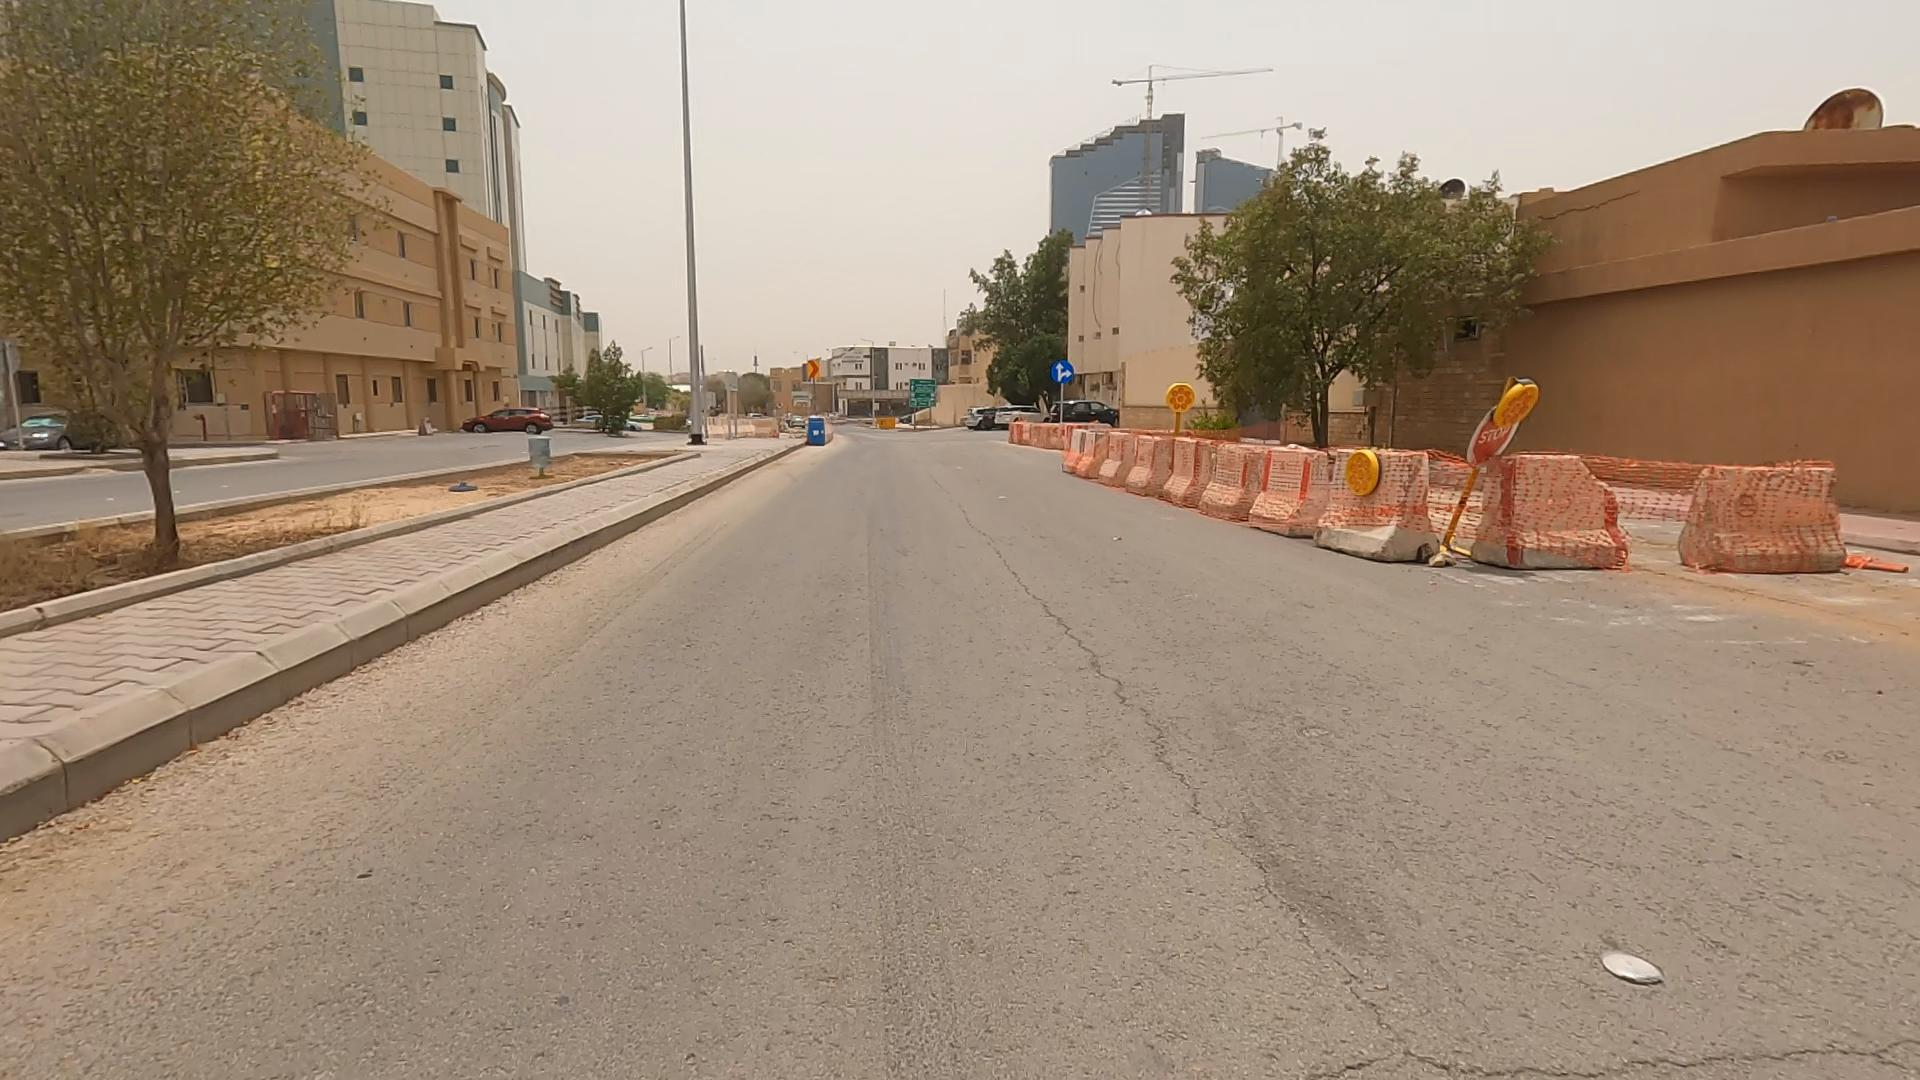CONSTRUCTION_ROAD: (819, 313, 1893, 658)
